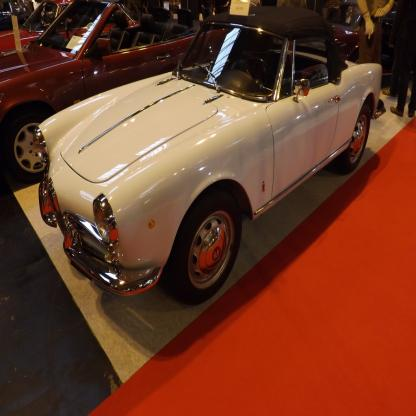Car: (37, 8, 387, 304), (1, 2, 232, 181), (1, 1, 141, 54), (329, 1, 398, 76), (1, 1, 31, 33)
